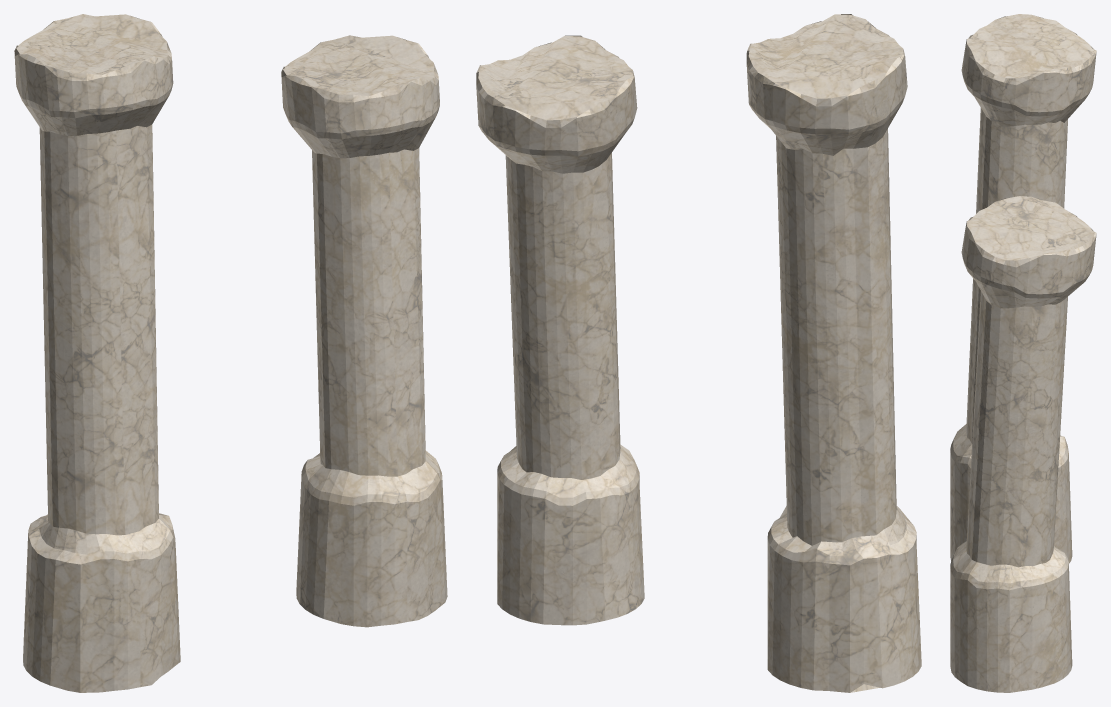
The model's file is ruins_standing.fbx.
3 renders of one model, left to right at view 1: azimuth 30°, elevation 25°; view 2: azimuth 150°, elevation 25°; view 3: azimuth 270°, elevation 25°, orthographic. The views are drawn at different scales.
Parts seen in each view (by area): view 1: Cylinder.001, Cylinder.002; view 2: Cylinder.001, Cylinder.002; view 3: Cylinder.002, Cylinder.001.
Part boxes in pixels (left/top/right/bottom): Cylinder.001: left=14, top=14, right=180, bottom=692; Cylinder.002: left=281, top=35, right=447, bottom=627; Cylinder.001: left=746, top=14, right=921, bottom=692; Cylinder.002: left=476, top=35, right=644, bottom=625; Cylinder.002: left=950, top=196, right=1096, bottom=692; Cylinder.001: left=950, top=14, right=1096, bottom=563.
Size of the model in its own units: 911 by 1318 by 337.
